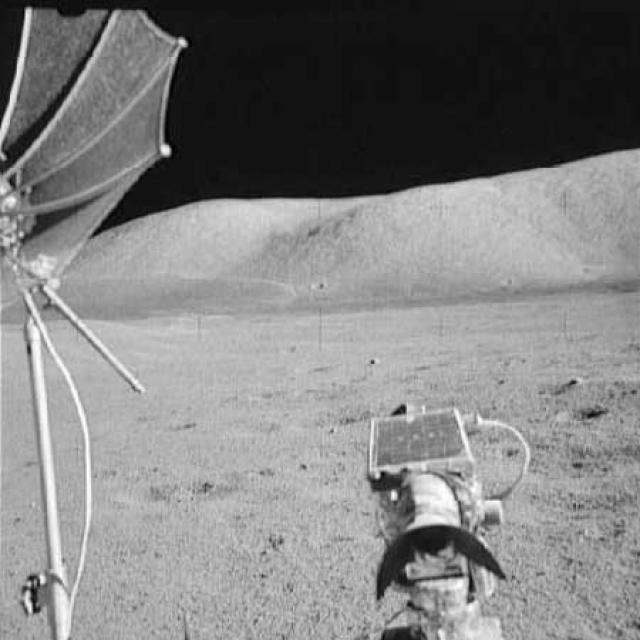artifact: (5, 4, 186, 640), (341, 398, 549, 639)
crater: (108, 471, 223, 505)
rock: (560, 370, 585, 388), (365, 356, 380, 368)
